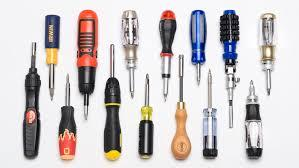screwdriver: (218, 8, 238, 127), (103, 43, 121, 161), (76, 8, 98, 104), (22, 40, 39, 159), (172, 53, 189, 159), (58, 72, 77, 160), (259, 11, 278, 89), (120, 9, 138, 90), (158, 8, 175, 93), (137, 72, 153, 159), (244, 84, 262, 158), (188, 8, 204, 85), (203, 76, 217, 158), (44, 14, 59, 87), (81, 104, 90, 120), (47, 88, 55, 101), (127, 90, 135, 98), (264, 87, 271, 95), (162, 93, 167, 102), (207, 67, 211, 75), (248, 79, 253, 84)
